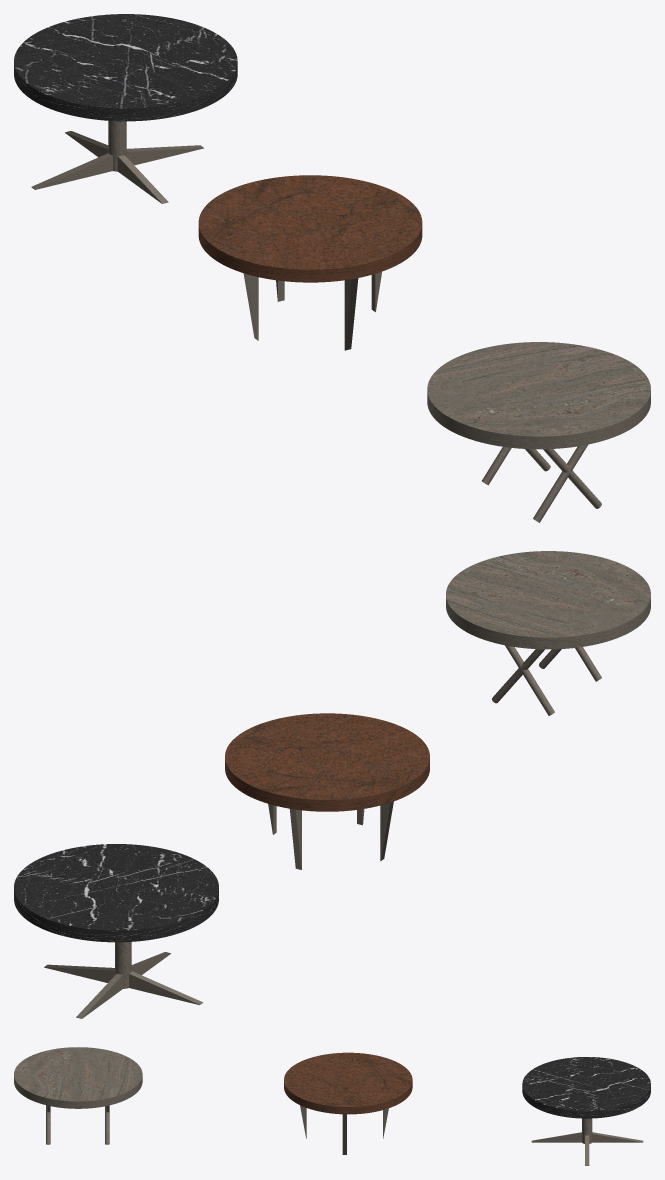
Rendered from Three Desk GLB.glb.
The picture shows the model from 3 angles, top to bottom: view 1: azimuth 30°, elevation 25°; view 2: azimuth 150°, elevation 25°; view 3: azimuth 270°, elevation 25°; orthographic projection. The views are drawn at different scales.
Parts seen in each view (by area): view 1: table1, table3, table2; view 2: table1, table3, table2; view 3: table1, table2, table3.
Part boxes in pixels (x1,y1,x2,y2): table1: [14, 14, 237, 203]; table3: [427, 342, 650, 522]; table2: [198, 175, 422, 350]; table1: [14, 844, 218, 1018]; table3: [446, 551, 650, 715]; table2: [225, 713, 429, 869]; table1: [522, 1057, 650, 1165]; table2: [284, 1052, 412, 1154]; table3: [14, 1047, 142, 1144].
Bounding box in the file's own units: 1.15 × 0.5304 × 4.95.
3 materials, 3 textured.
